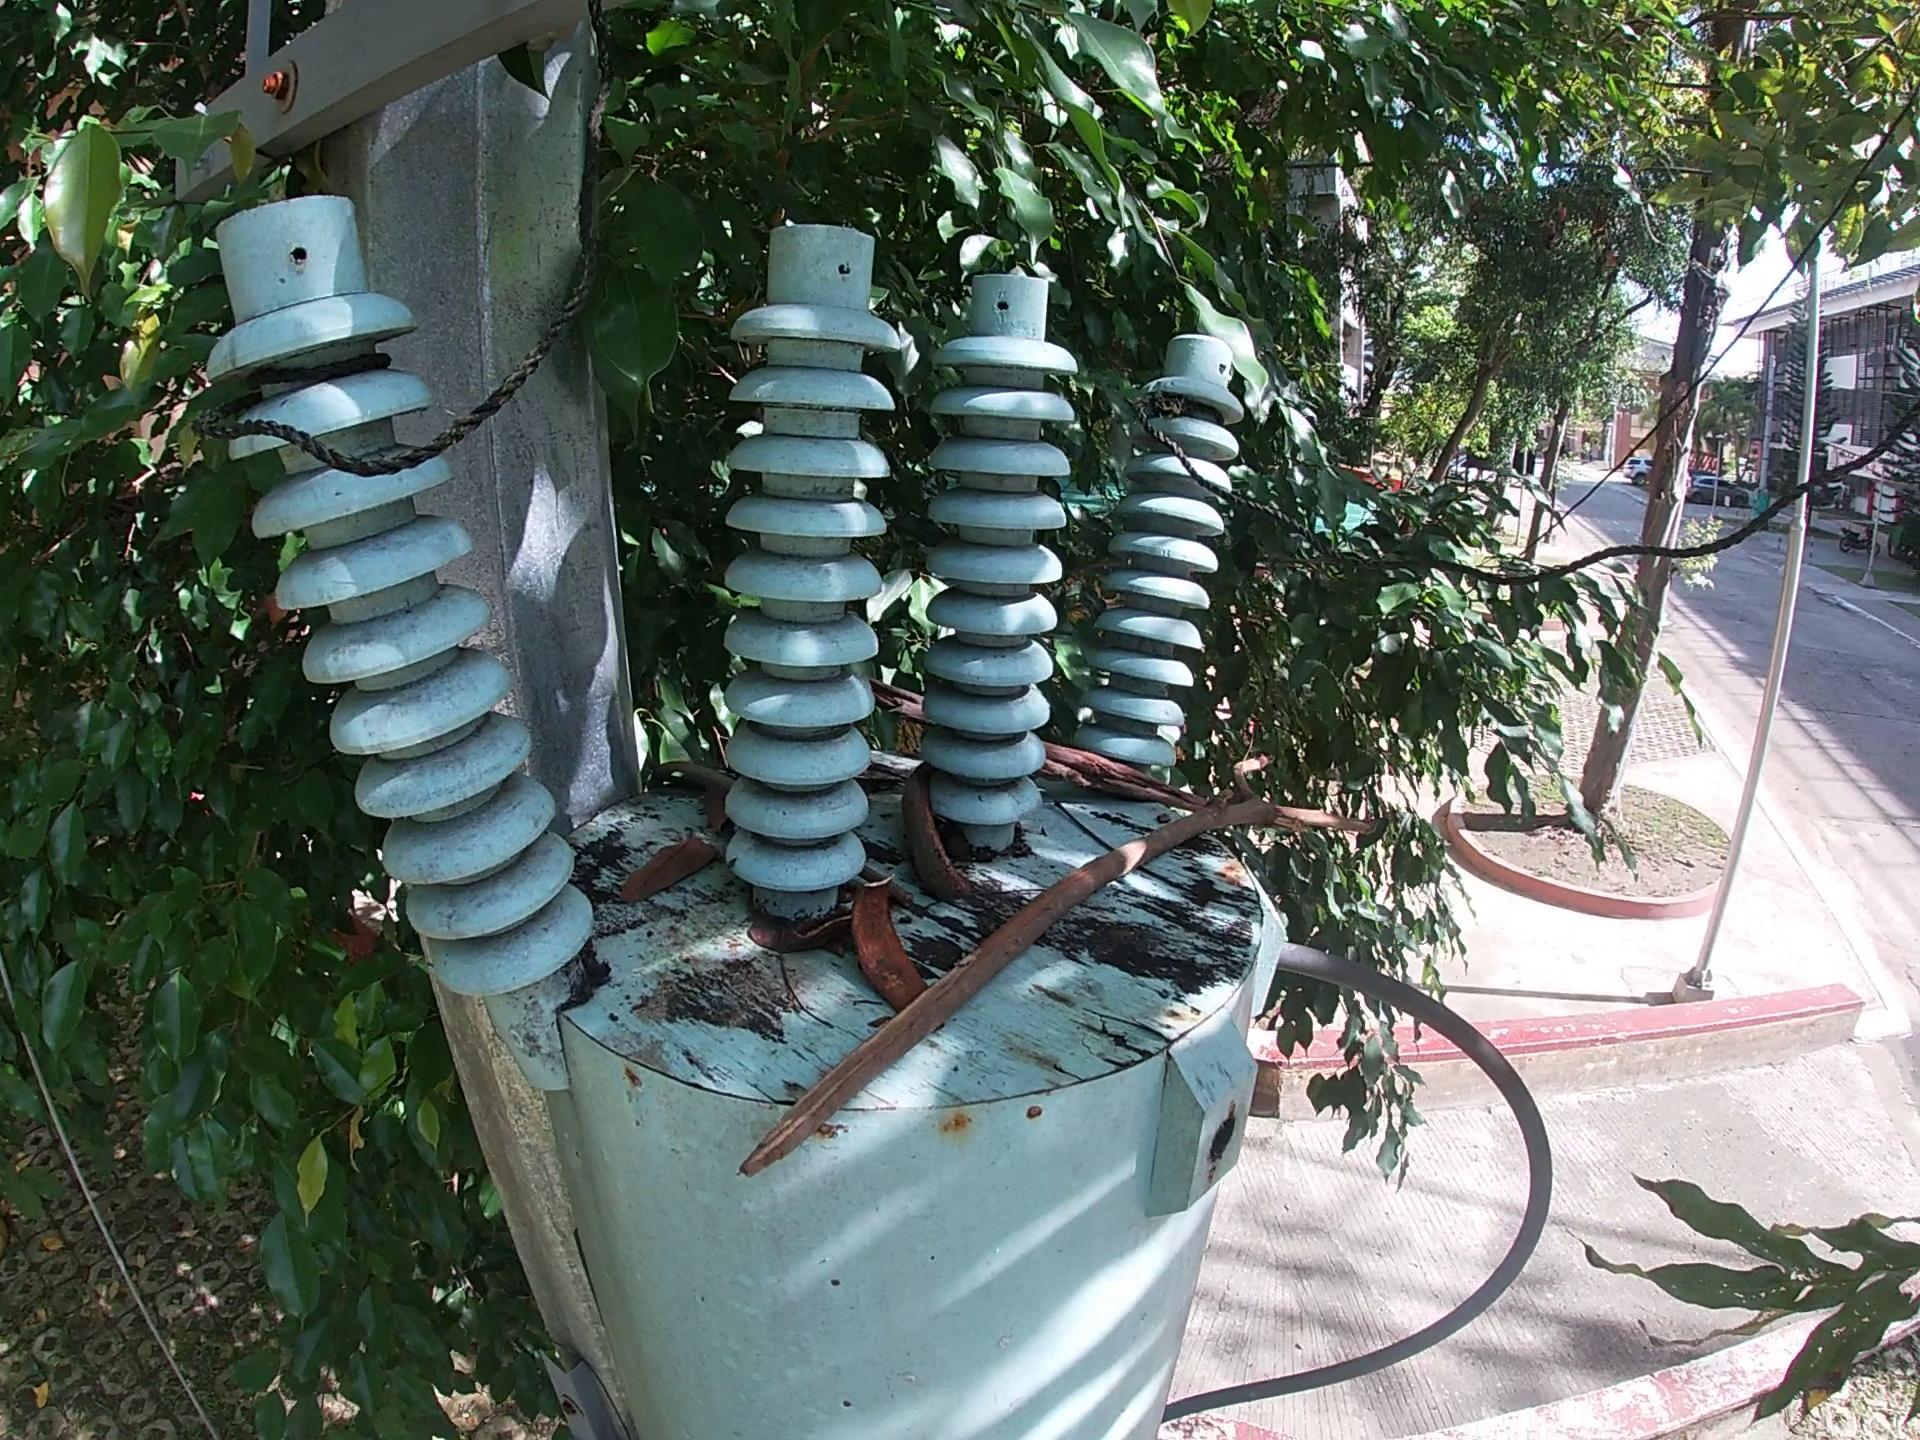leaf: (623, 832, 730, 914), (649, 781, 701, 796), (701, 787, 727, 817)
mahogany fruit: (890, 770, 980, 921), (850, 867, 928, 1018)
tree branch: (732, 743, 1398, 1192), (1042, 725, 1196, 806), (776, 957, 854, 1032), (1049, 793, 1119, 855), (859, 862, 927, 908), (644, 756, 741, 787), (866, 682, 930, 728), (751, 917, 841, 948), (1147, 862, 1196, 912)
